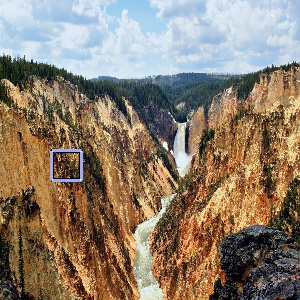square: (49, 148, 84, 184)
